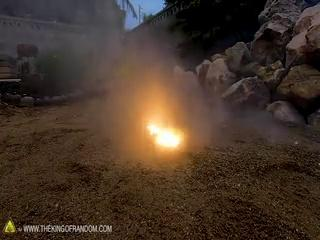Fire: (143, 115, 188, 150)
